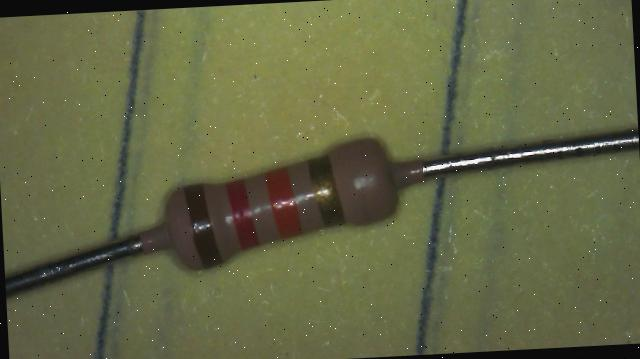brown: (184, 182, 218, 266)
gold: (308, 154, 344, 228)
orange: (266, 166, 303, 237)
red: (228, 179, 255, 248)
resistor: (136, 105, 430, 298)
